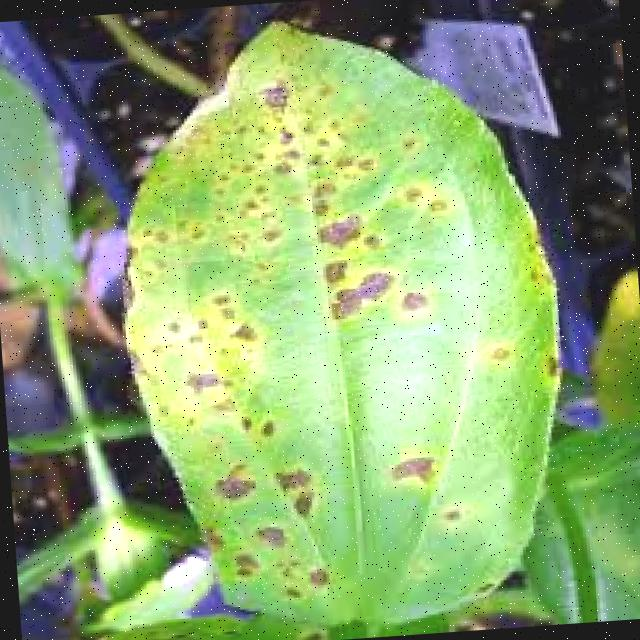leaf spot: (92, 2, 589, 640)
